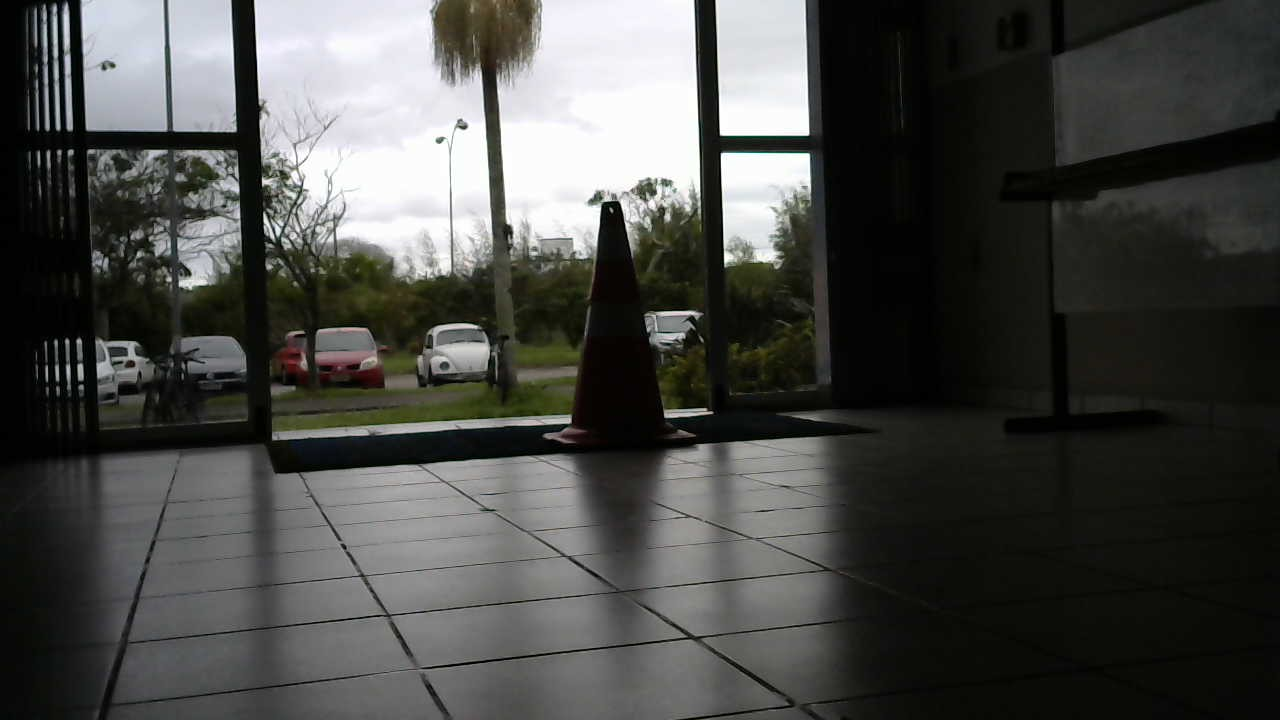cone: (550, 199, 694, 460)
